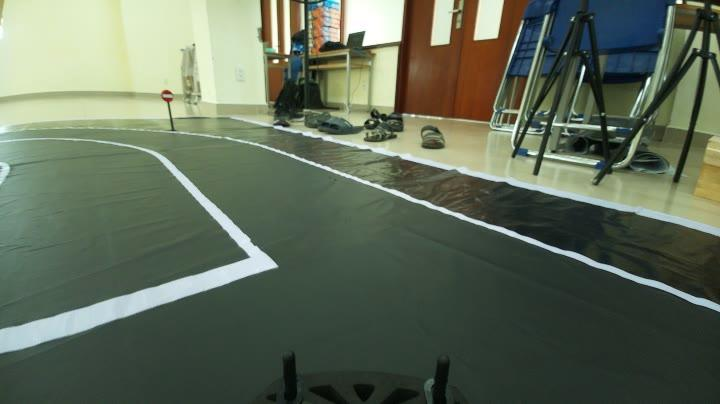no_entry: (156, 89, 178, 105)
